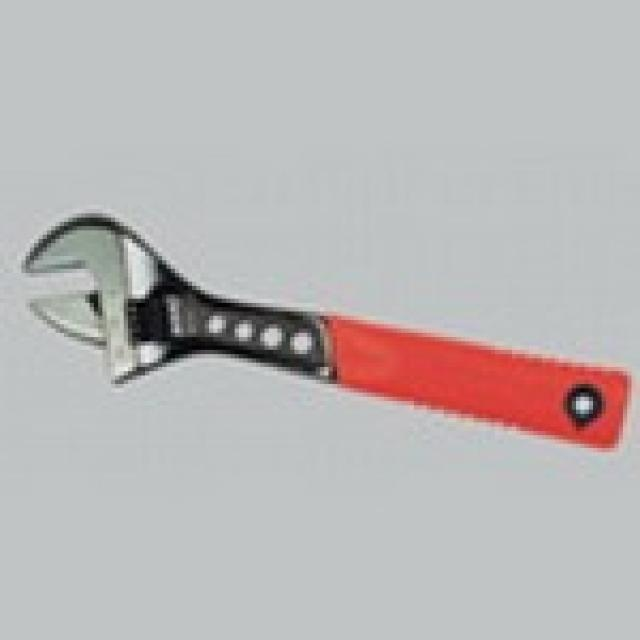wrench: (13, 186, 575, 478)
